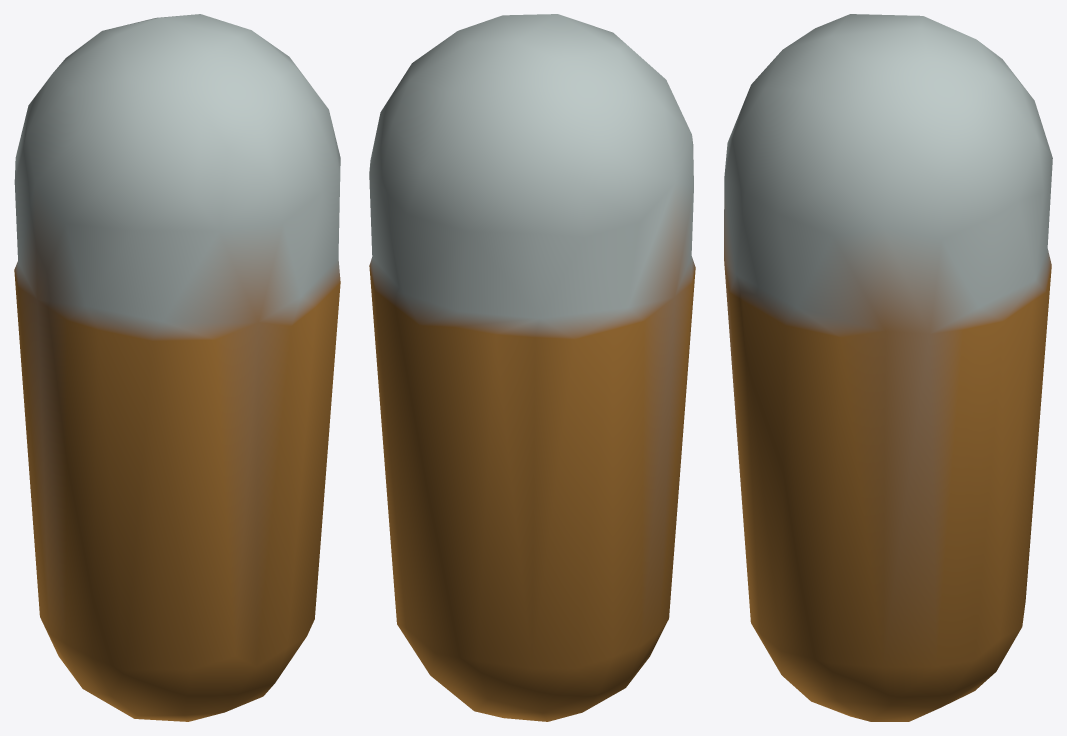
Rendered from ly_tra_da.glb.
3 views of the same model, side by side, from view 1: azimuth 30°, elevation 25°; view 2: azimuth 150°, elevation 25°; view 3: azimuth 270°, elevation 25° (orthographic).
Visible parts, largest first — view 1: ly_tra_da; view 2: ly_tra_da; view 3: ly_tra_da.
Part boxes in pixels (x1=…): ly_tra_da: x1=14, y1=14, x2=340, y2=721; ly_tra_da: x1=369, y1=14, x2=695, y2=721; ly_tra_da: x1=724, y1=14, x2=1052, y2=721.
Size of the model in its own units: 0.0885 by 0.2015 by 0.0881.
